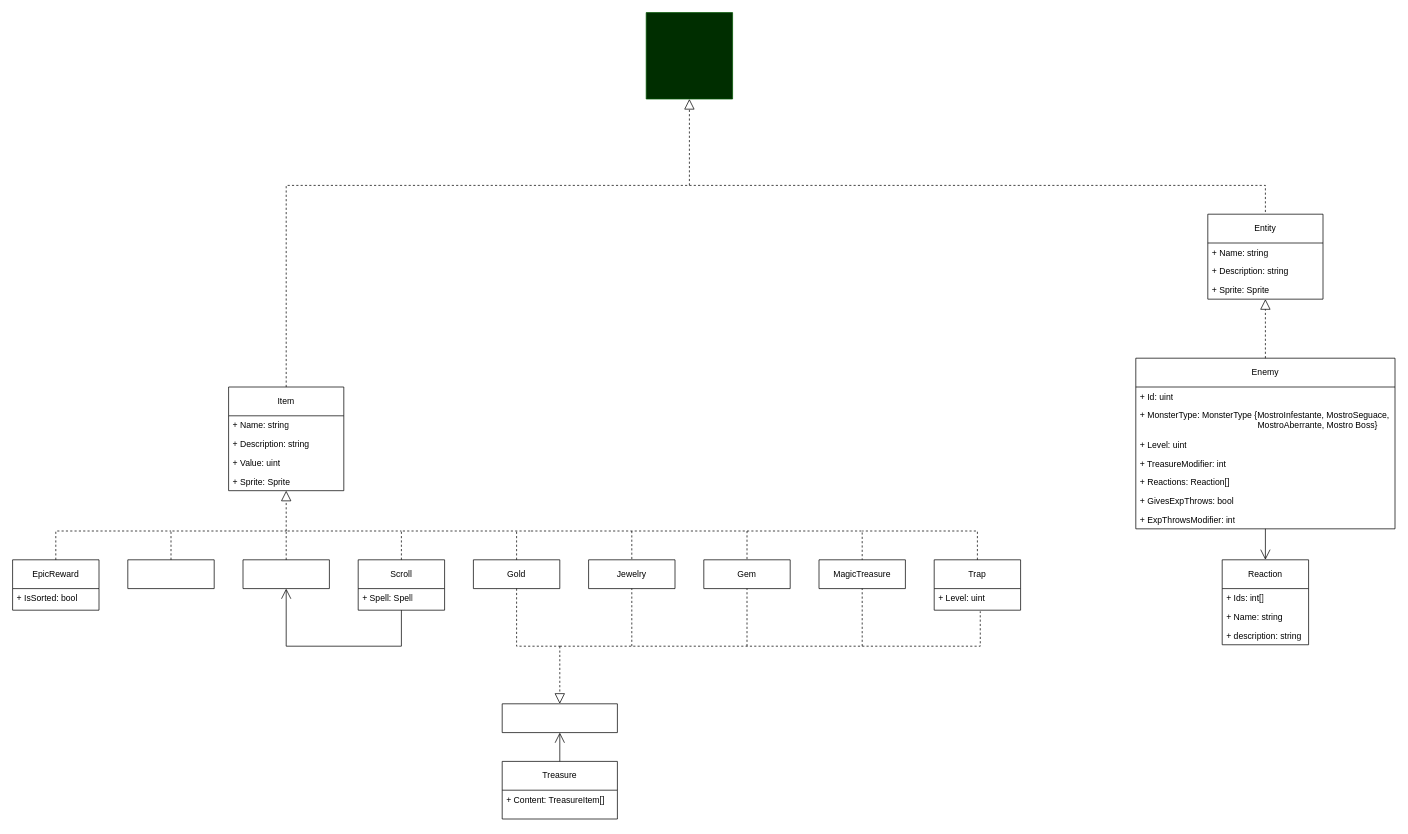
The diagram is 1408 pixels wide and 834 high, and some of its shapes have lost their labels. The shapes that lost their labels are listed below. From the top down, each one's centre as x and y in pixels, then its label:
At (x=689, y=55): "ScriptableObject".
At (x=170, y=574): "Mission".
At (x=285, y=574): "Spell".
At (x=559, y=718): "TreasureItem << interface >>".
